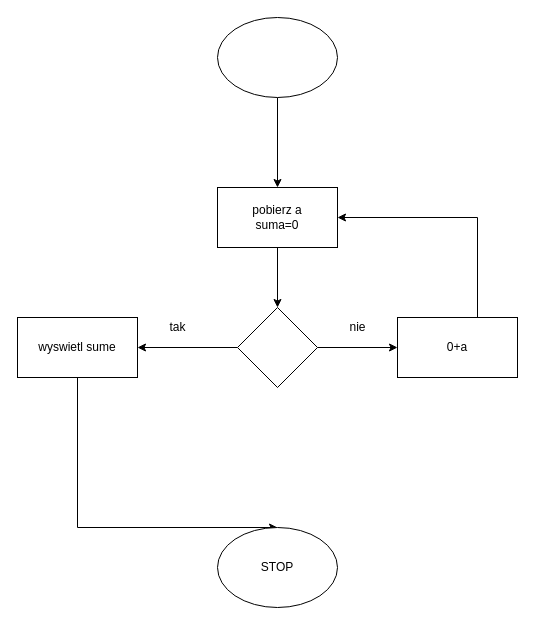
Image size: 535x625. Some labels were removed from this diagram. The shapes that lost their labels are listed below. From the top down, each one's box as (x1, y1, x2, y2) in pixels, then its label:
(216, 16, 338, 98): START
(236, 306, 318, 388): a=0
